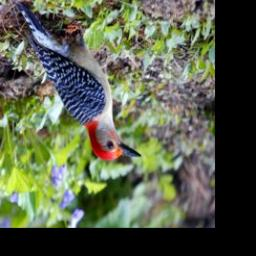Woodpecker: (15, 1, 142, 162)
